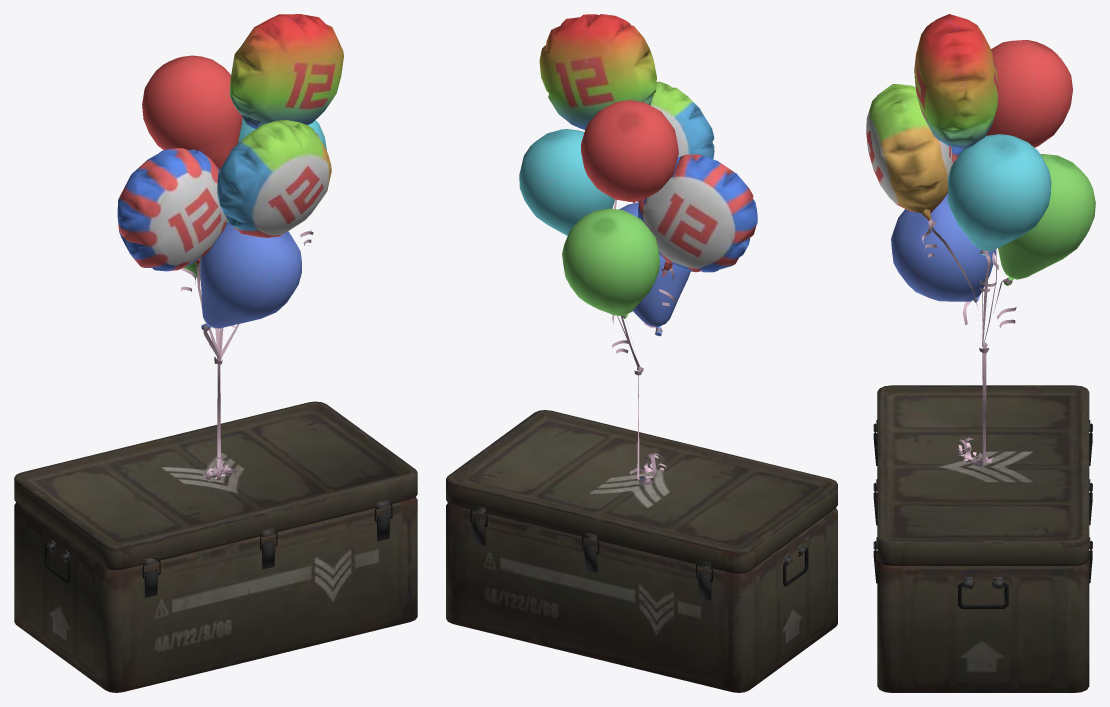
File: crate_elite.glb
The picture shows the model from 3 angles, left to right: view 1: azimuth 30°, elevation 25°; view 2: azimuth 150°, elevation 25°; view 3: azimuth 270°, elevation 25°; orthographic projection. The views are drawn at different scales.
Parts seen in each view (by area): view 1: w_crate_B__LOD0, mixed_balloon_clump_LOD0; view 2: w_crate_B__LOD0, mixed_balloon_clump_LOD0; view 3: w_crate_B__LOD0, mixed_balloon_clump_LOD0.
Part boxes in pixels (left/top/right/bottom): w_crate_B__LOD0: left=14, top=401, right=417, bottom=692; mixed_balloon_clump_LOD0: left=117, top=14, right=343, bottom=481; w_crate_B__LOD0: left=446, top=410, right=837, bottom=692; mixed_balloon_clump_LOD0: left=519, top=14, right=757, bottom=484; w_crate_B__LOD0: left=873, top=385, right=1092, bottom=692; mixed_balloon_clump_LOD0: left=866, top=14, right=1095, bottom=466.
Size of the model in its own units: 1.42 by 2.55 by 0.8511.
Materials: 3 (3 with a texture image).
